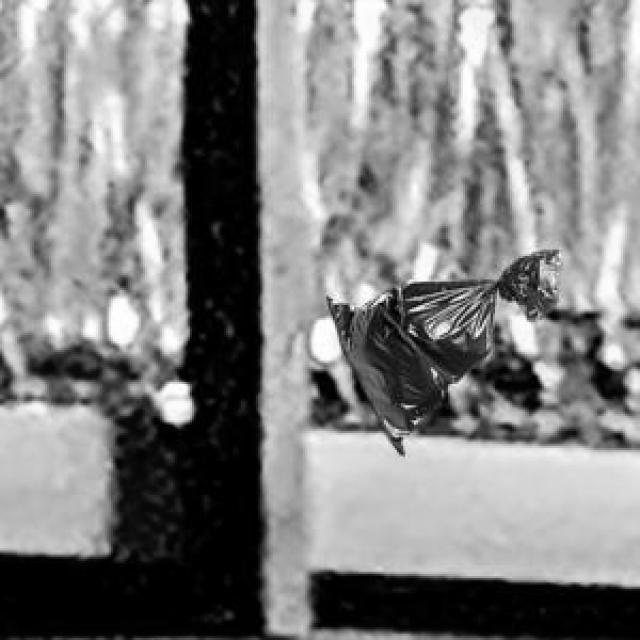miscellaneous trash: (322, 245, 557, 452)
